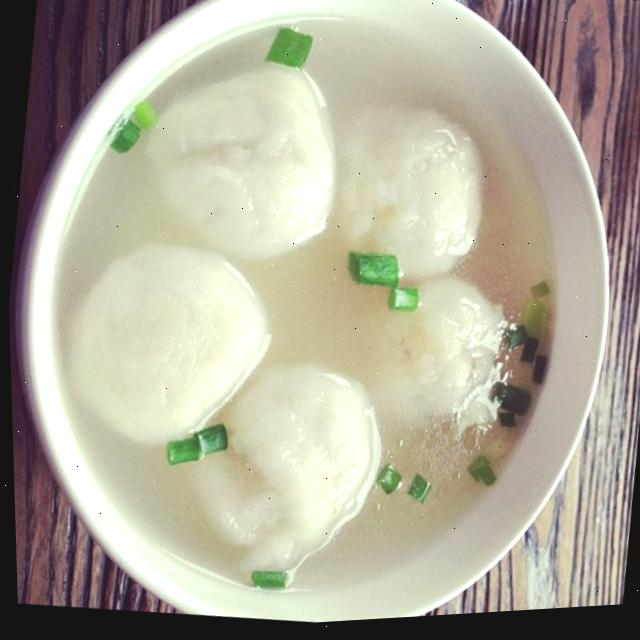熟制海鲜: (0, 0, 628, 640)
